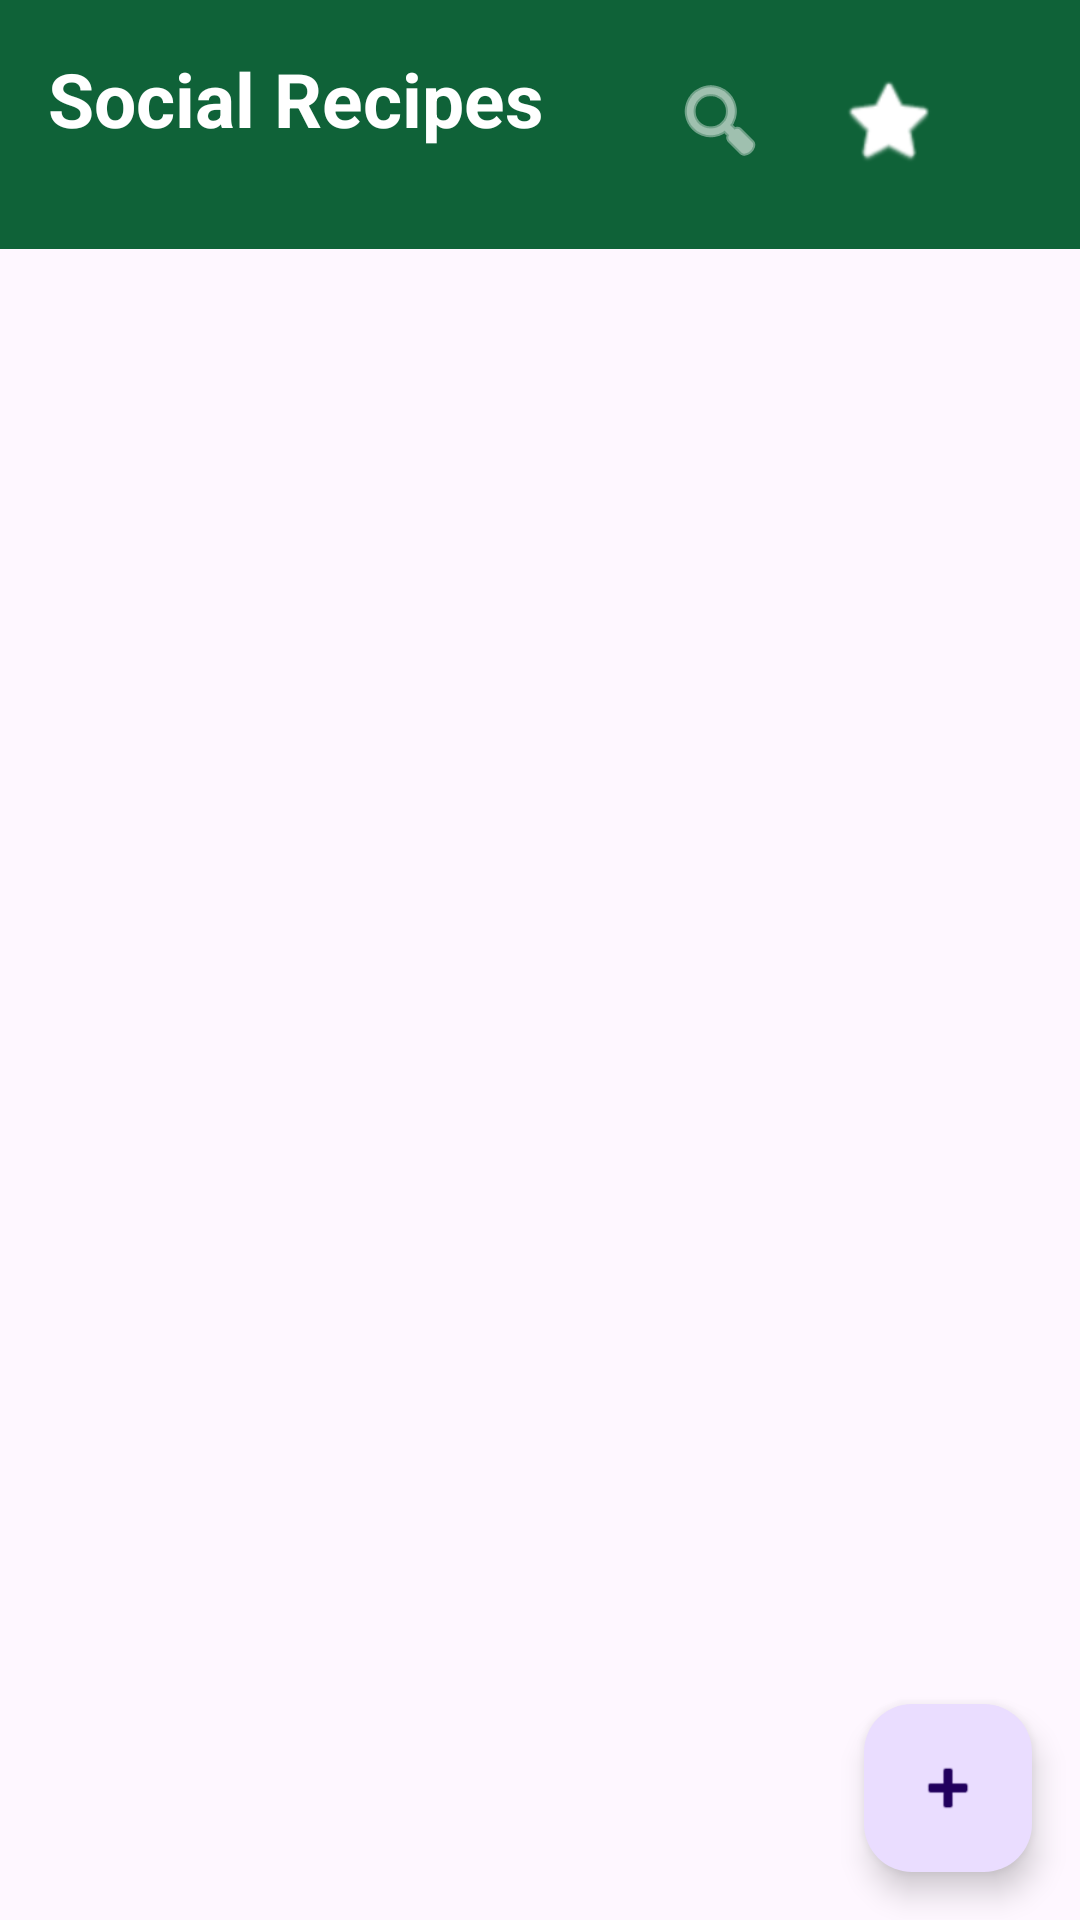

Locate icon controls on the screen. Image size 1080w x 1920h, boxes as (x1,y1,x2,y2).
Agregar Receta: (864,1704,1032,1872)
Buscar: (684,85,756,156)
Favoritos: (849,82,929,160)
